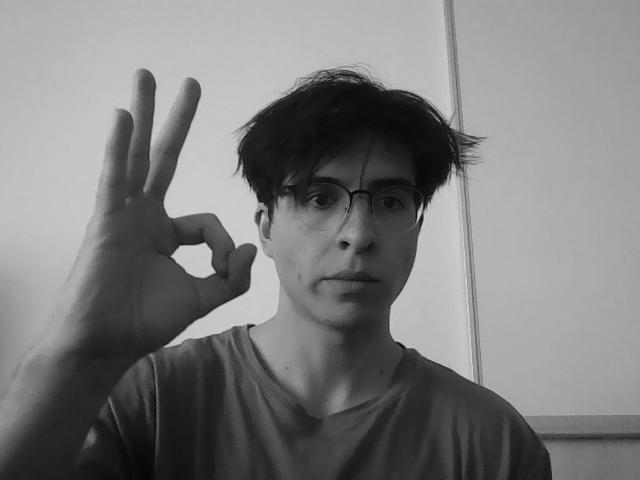OK: (74, 62, 260, 328)
